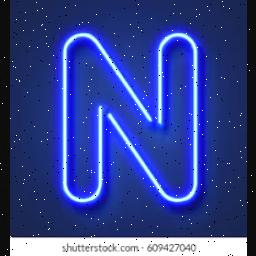n: (50, 24, 206, 216)
